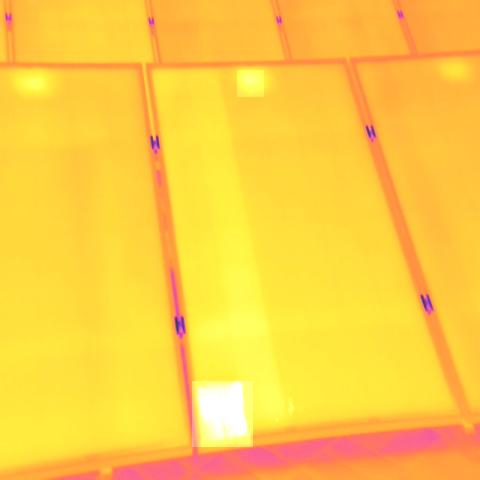fault: (192, 381, 253, 447), (237, 70, 264, 97)
